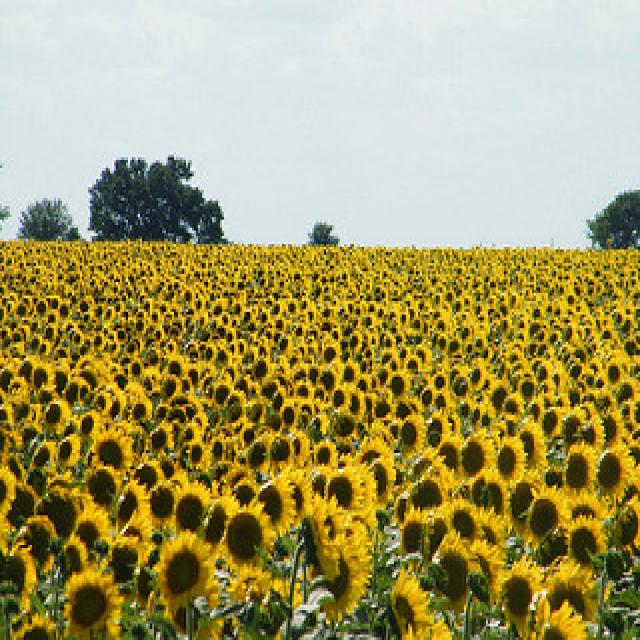sunflower: (156, 534, 212, 614), (491, 561, 546, 637), (61, 568, 122, 636), (220, 505, 272, 575), (386, 572, 432, 640), (566, 514, 608, 576), (13, 521, 60, 575), (594, 445, 634, 507), (523, 491, 565, 549), (258, 475, 292, 539), (115, 479, 148, 544), (558, 442, 596, 498), (324, 466, 361, 520), (90, 432, 135, 476), (147, 476, 179, 532), (460, 433, 493, 483), (176, 486, 208, 536), (493, 437, 525, 485), (397, 416, 424, 458), (42, 399, 72, 435)
